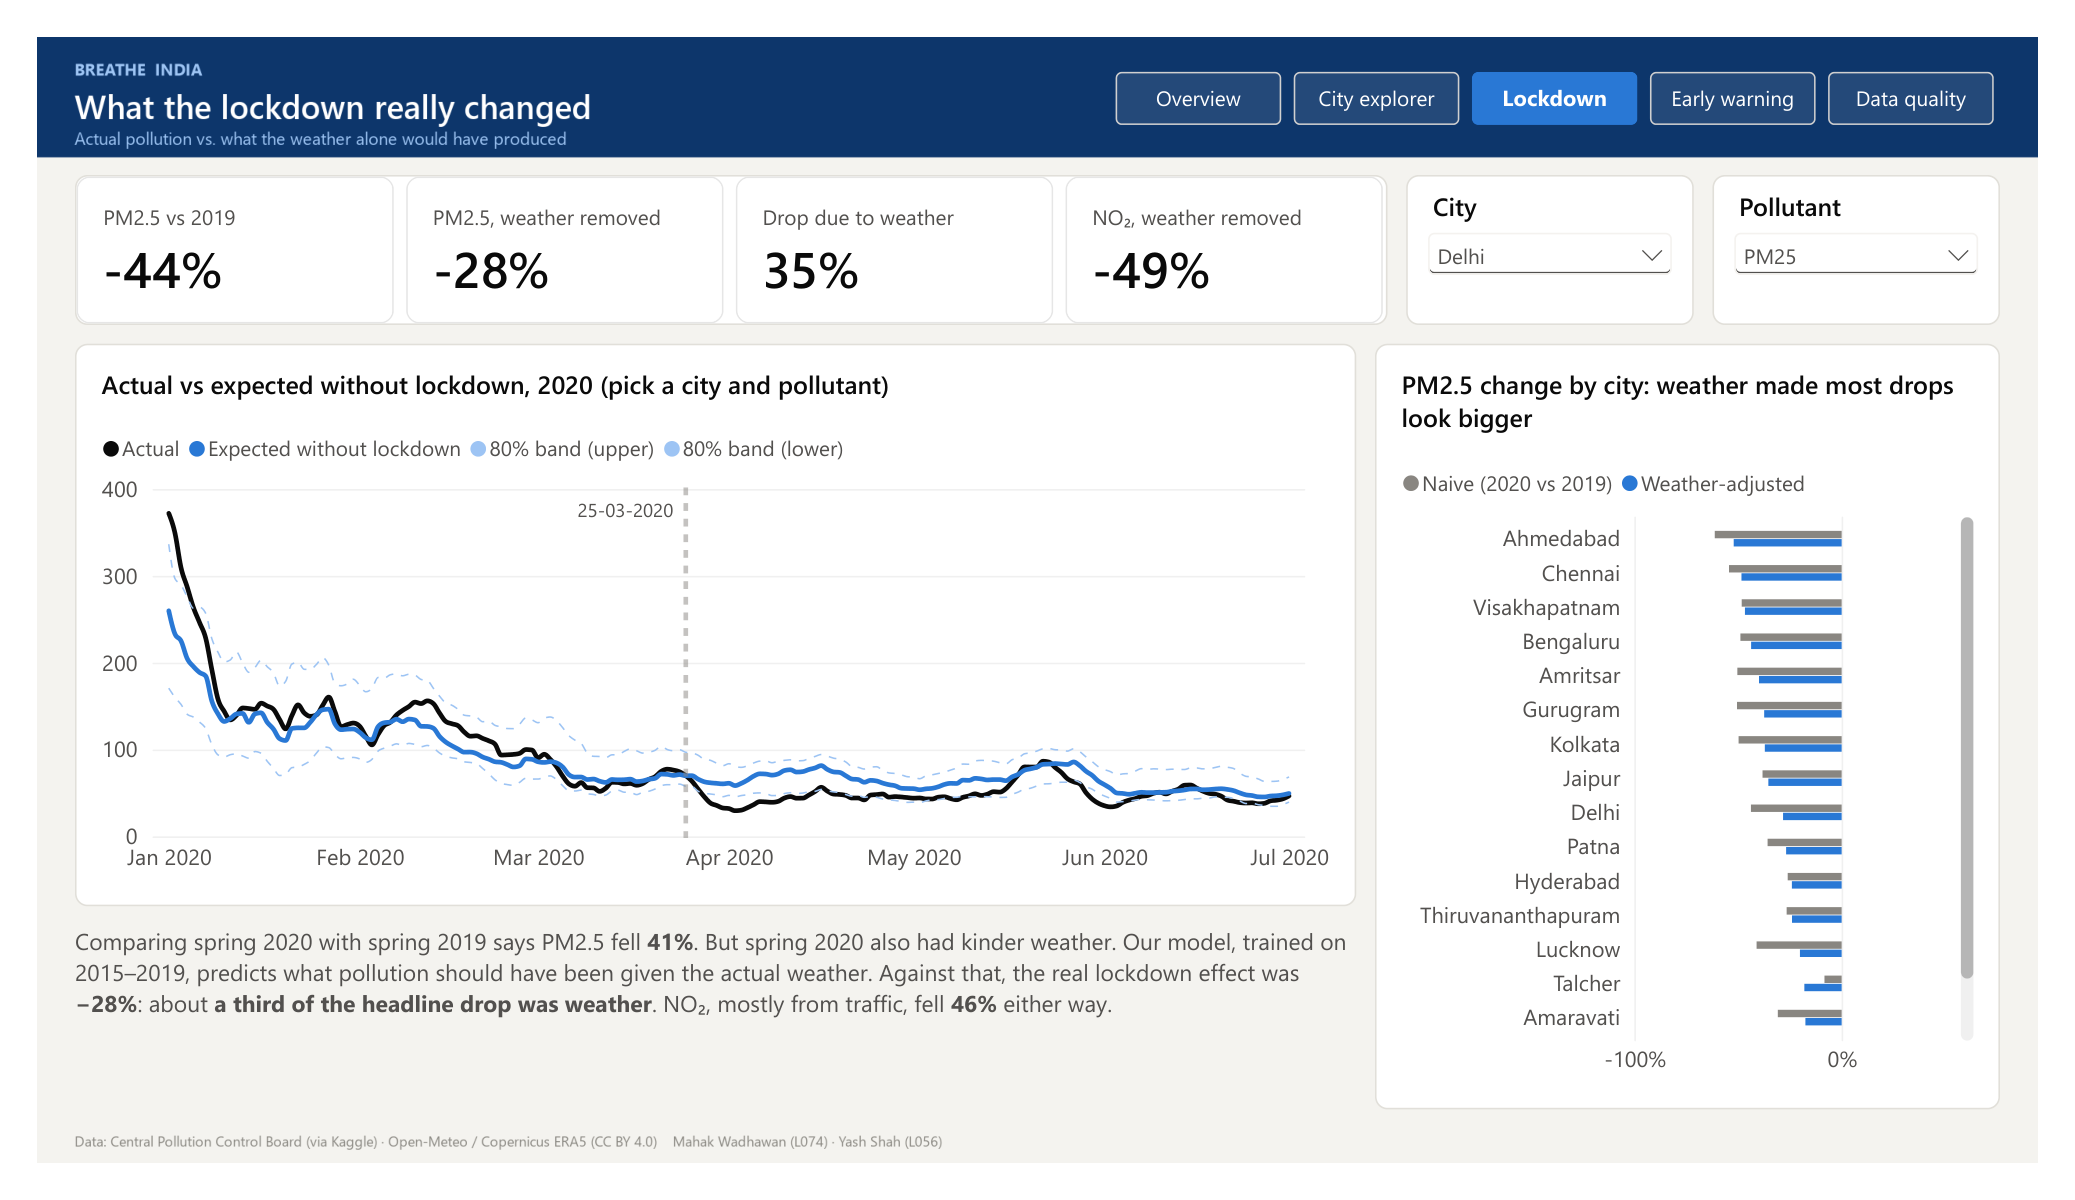

This screenshot's page, from the dashboard's own definition file:
{"tool":"powerbi","page":{"name":"Lockdown","canvas":[1280,720],"ordinal":2},"visuals":[{"type":"cardVisual","fields":{"Data":["_Measures.PM2.5 Drop (Naive)","_Measures.PM2.5 Drop (Weather-Adjusted)","_Measures.Weather Share of PM2.5 Drop","_Measures.NO2 Drop (Weather-Adjusted)"]},"box":[24,88,840,96],"z":1000},{"type":"slicer","fields":{"Values":["dim_city.City"]},"box":[876,88,184,96],"z":1000},{"type":"slicer","fields":{"Values":["ml_counterfactual.pollutant"]},"box":[1072,88,184,96],"z":1000},{"type":"lineChart","title":"Actual vs expected without lockdown, 2020 (pick a city and pollutant)","fields":{"Category":["dim_date.Date"],"Y":["_Measures.Actual (7-day)","_Measures.Expected (7-day)","_Measures.Band High (7-day)","_Measures.Band Low (7-day)"]},"box":[24,196,820,360],"z":1000},{"type":"clusteredBarChart","title":"PM2.5 change by city: weather made most drops look bigger","fields":{"Category":["ml_lockdown_effect.City"],"Y":["_Measures.Naive Change","_Measures.Weather-Adjusted Change"]},"box":[856,196,400,490],"z":1000},{"type":"textbox","box":[24,568,820,118],"z":1000},{"type":"pageNavigator","box":[690,22,566,34],"z":5000}]}

Visuals, with their boxes on the page's 1280x720 design canvas (x1, y1, x2, y2). These are canvas units, not pixel positions in the 2075x1200 screenshot, which may show the page scaled, cropped or inside an application window:
cardVisual - _Measures.PM2.5 Drop (Naive) x _Measures.PM2.5 Drop (Weather-Adjusted): [left=24, top=88, right=864, bottom=184]
slicer - dim_city.City: [left=876, top=88, right=1060, bottom=184]
slicer - ml_counterfactual.pollutant: [left=1072, top=88, right=1256, bottom=184]
"Actual vs expected without lockdown, 2020 (pick a city and pollutant)" lineChart: [left=24, top=196, right=844, bottom=556]
"PM2.5 change by city: weather made most drops look bigger" clusteredBarChart: [left=856, top=196, right=1256, bottom=686]
textbox: [left=24, top=568, right=844, bottom=686]
pageNavigator: [left=690, top=22, right=1256, bottom=56]
